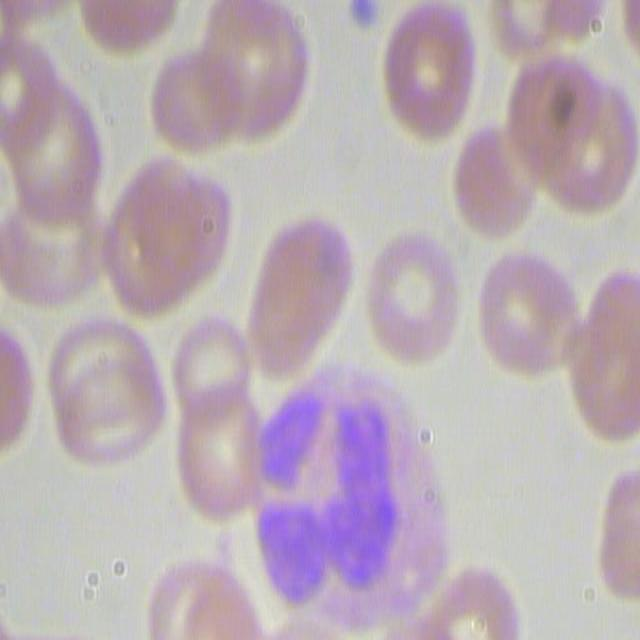RBC: (504, 5, 638, 221), (0, 75, 106, 331), (91, 145, 226, 331), (164, 313, 266, 527), (39, 310, 167, 477), (242, 203, 357, 380), (200, 0, 314, 146), (360, 227, 467, 368), (473, 241, 580, 379), (374, 0, 476, 142), (566, 267, 640, 438), (145, 551, 258, 640), (451, 128, 537, 242), (485, 0, 613, 64), (424, 565, 528, 640), (596, 448, 640, 593), (73, 0, 185, 55), (0, 308, 39, 456)
WBC: (257, 356, 452, 609)
platelets: (339, 0, 383, 39)
